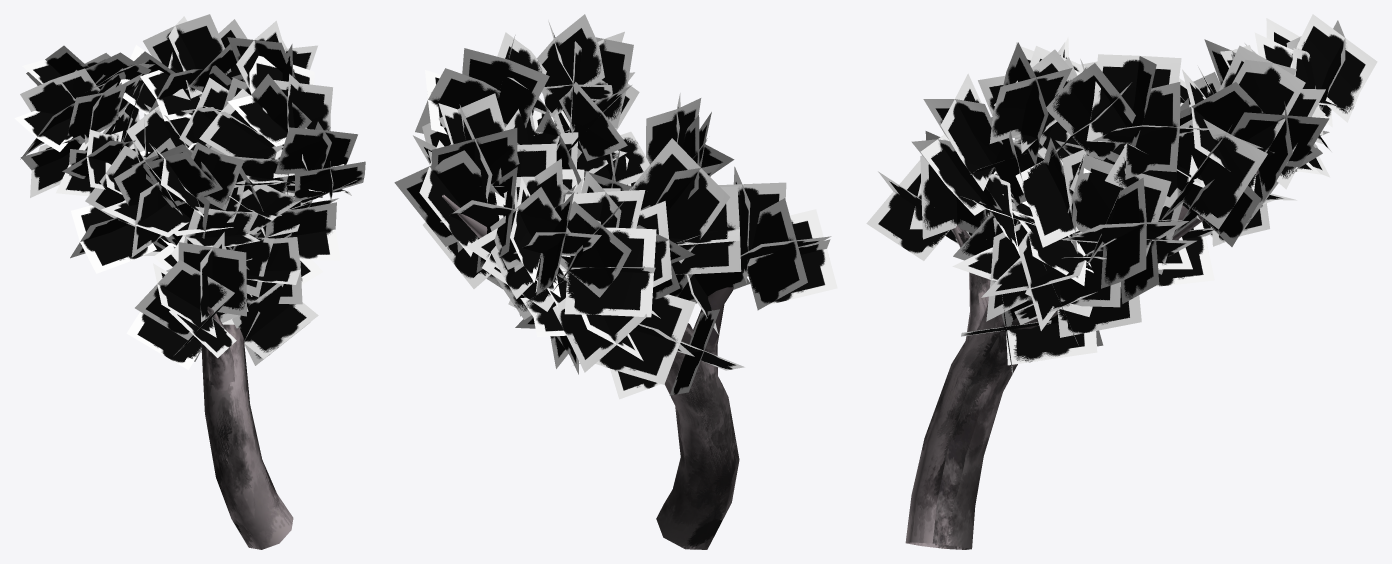
File: Tree_G_freezed.fbx
3 views of the same model, side by side, from view 1: azimuth 30°, elevation 25°; view 2: azimuth 150°, elevation 25°; view 3: azimuth 270°, elevation 25° (orthographic). The views are drawn at different scales.
Parts seen in each view (by area): view 1: leafG_2 (×2), leafG_4 (×2), leafG_3 (×2), leafG (×2), treeG; view 2: leafG_2 (×2), leafG (×2), leafG_4 (×2), leafG_3 (×2), treeG; view 3: leafG_4 (×2), leafG_3 (×2), leafG (×2), treeG, leafG_2 (×2).
Part boxes in pixels (x1,y1,x2,y2): leafG_2 (×2): (14, 45, 233, 273); leafG_4 (×2): (183, 20, 365, 297); leafG_3 (×2): (131, 14, 340, 304); leafG (×2): (119, 45, 323, 369); treeG: (201, 306, 293, 549); leafG_2 (×2): (466, 138, 741, 384); leafG (×2): (394, 140, 837, 399); leafG_4 (×2): (415, 14, 649, 185); leafG_3 (×2): (413, 93, 734, 316); treeG: (442, 194, 749, 549); leafG_4 (×2): (911, 42, 1214, 285); leafG_3 (×2): (952, 37, 1305, 330); leafG (×2): (866, 89, 1329, 373); treeG: (905, 169, 1258, 549); leafG_2 (×2): (1015, 14, 1377, 246).
Size of the model in its own units: 298 by 485 by 406.
